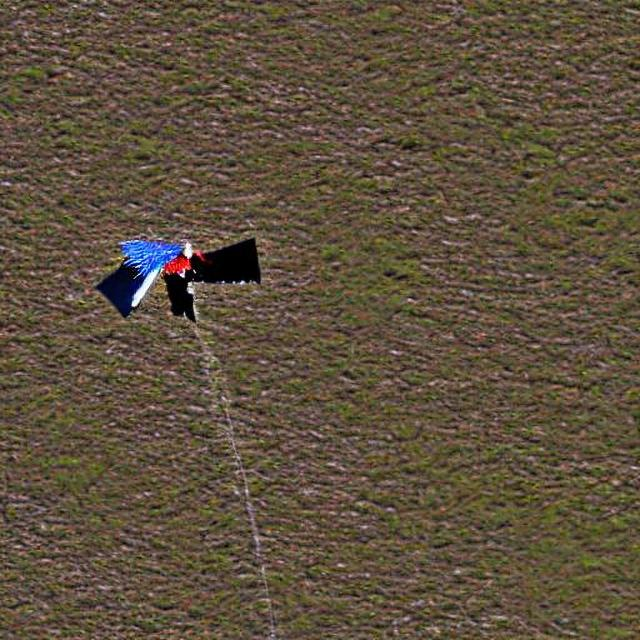floating object: (134, 233, 258, 295), (105, 239, 194, 316)
